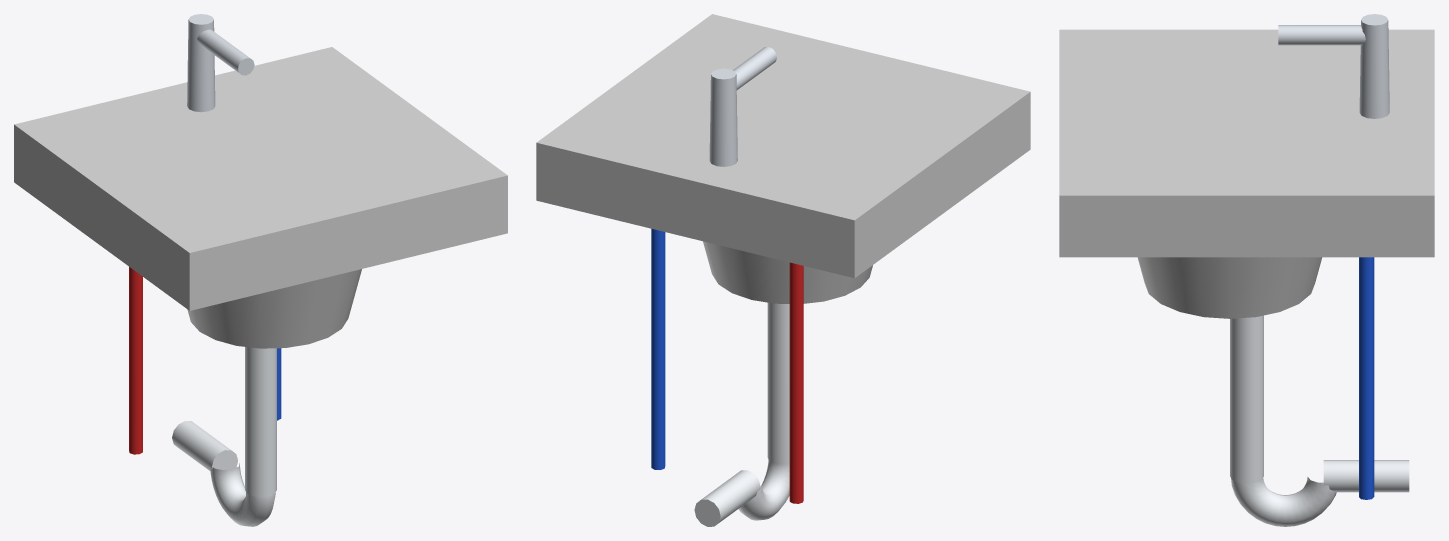
Rendered from fixture-bar-sink.glb.
3 renders of one model, left to right at view 1: azimuth 30°, elevation 25°; view 2: azimuth 150°, elevation 25°; view 3: azimuth 270°, elevation 25°, orthographic. The views are drawn at different scales.
Parts seen in each view (by area): view 1: plumbing-fixture-bar-sink; view 2: plumbing-fixture-bar-sink; view 3: plumbing-fixture-bar-sink.
Boxes of the visible parts, x1=… form: plumbing-fixture-bar-sink: x1=14, y1=14, x2=507, y2=526; plumbing-fixture-bar-sink: x1=536, y1=14, x2=1030, y2=526; plumbing-fixture-bar-sink: x1=1059, y1=14, x2=1434, y2=526.
Bounding box in the file's own units: 0.46 × 0.654 × 0.44.
